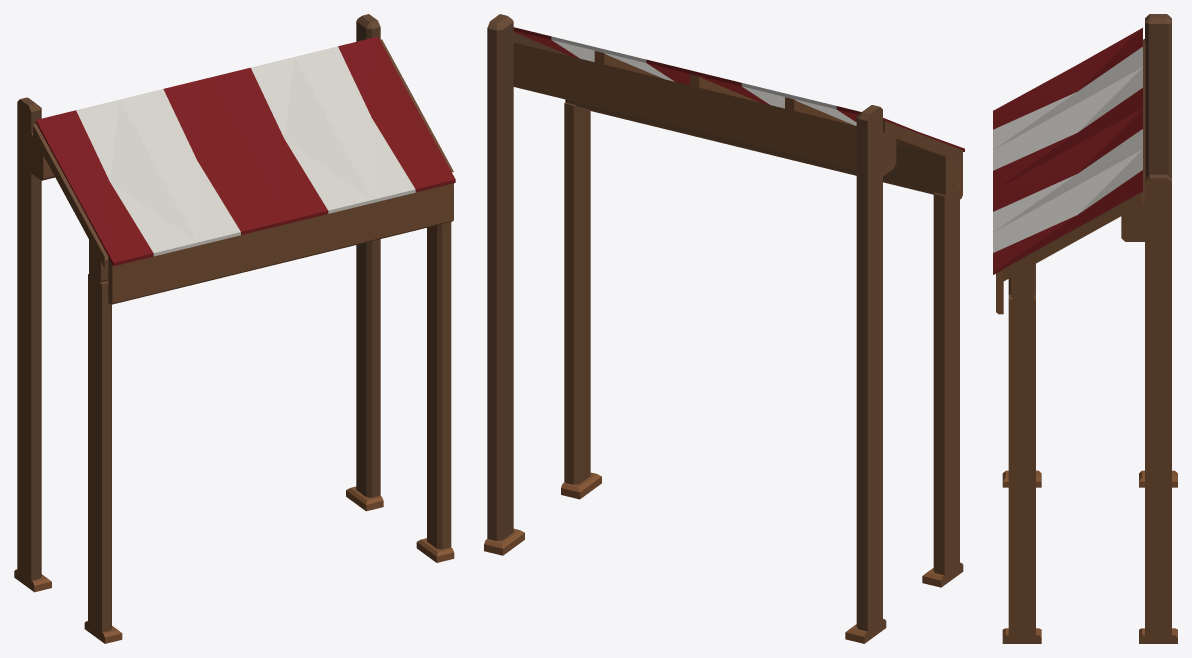
The model's file is porch-awning-run-4c0d13.glb.
3 views of the same model, side by side, from view 1: azimuth 30°, elevation 25°; view 2: azimuth 150°, elevation 25°; view 3: azimuth 270°, elevation 25° (orthographic). The views are drawn at different scales.
Parts seen in each view (by area): view 1: canvas-mesh, awning-frame; view 2: awning-frame, canvas-mesh; view 3: awning-frame, canvas-mesh.
Boxes of the visible parts, x1,y1,x2,y2 form: canvas-mesh: (36, 36, 455, 266); awning-frame: (14, 14, 454, 643); awning-frame: (484, 14, 963, 643); canvas-mesh: (513, 27, 964, 151); awning-frame: (996, 14, 1177, 643); canvas-mesh: (993, 28, 1142, 274).
Bounding box in the file's own units: 2 × 2.64 × 0.95.
